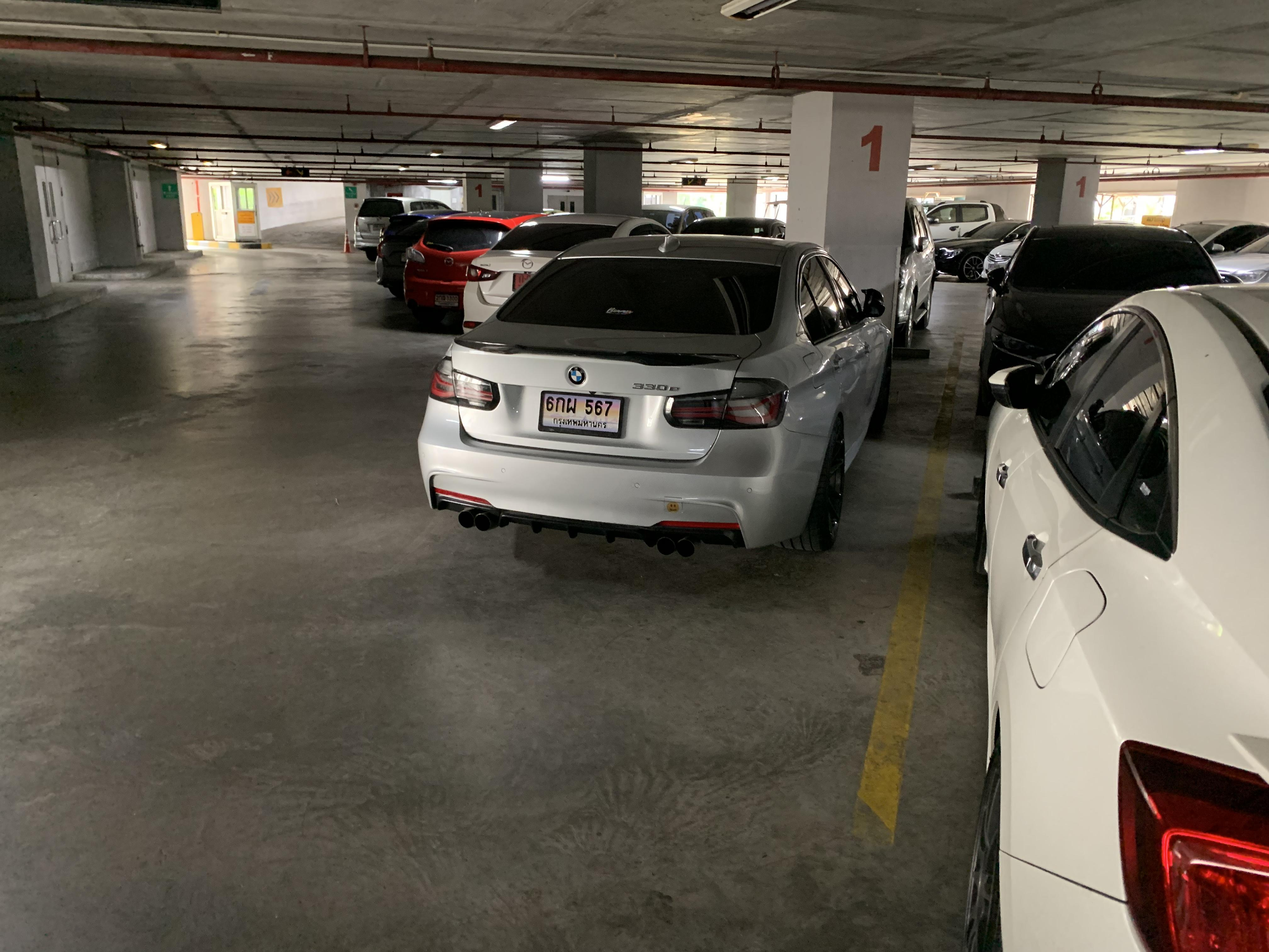license-plate: (539, 389, 630, 442)
